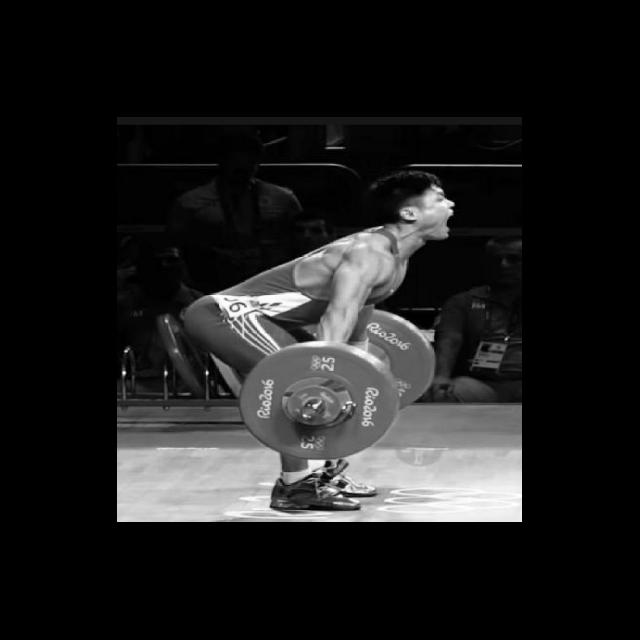barbell: (231, 335, 406, 463)
